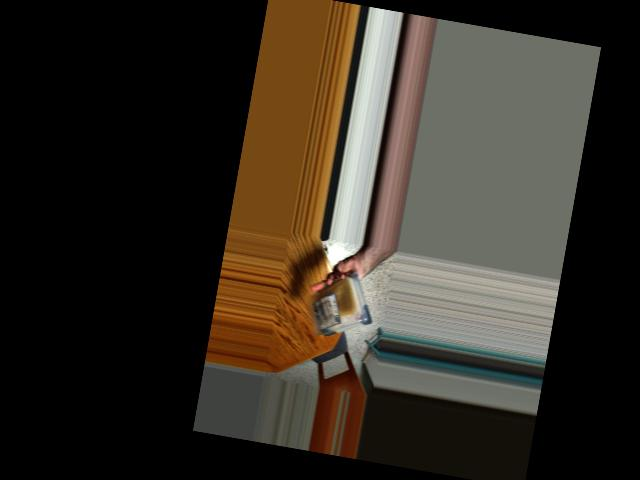cheese: (308, 271, 367, 339)
